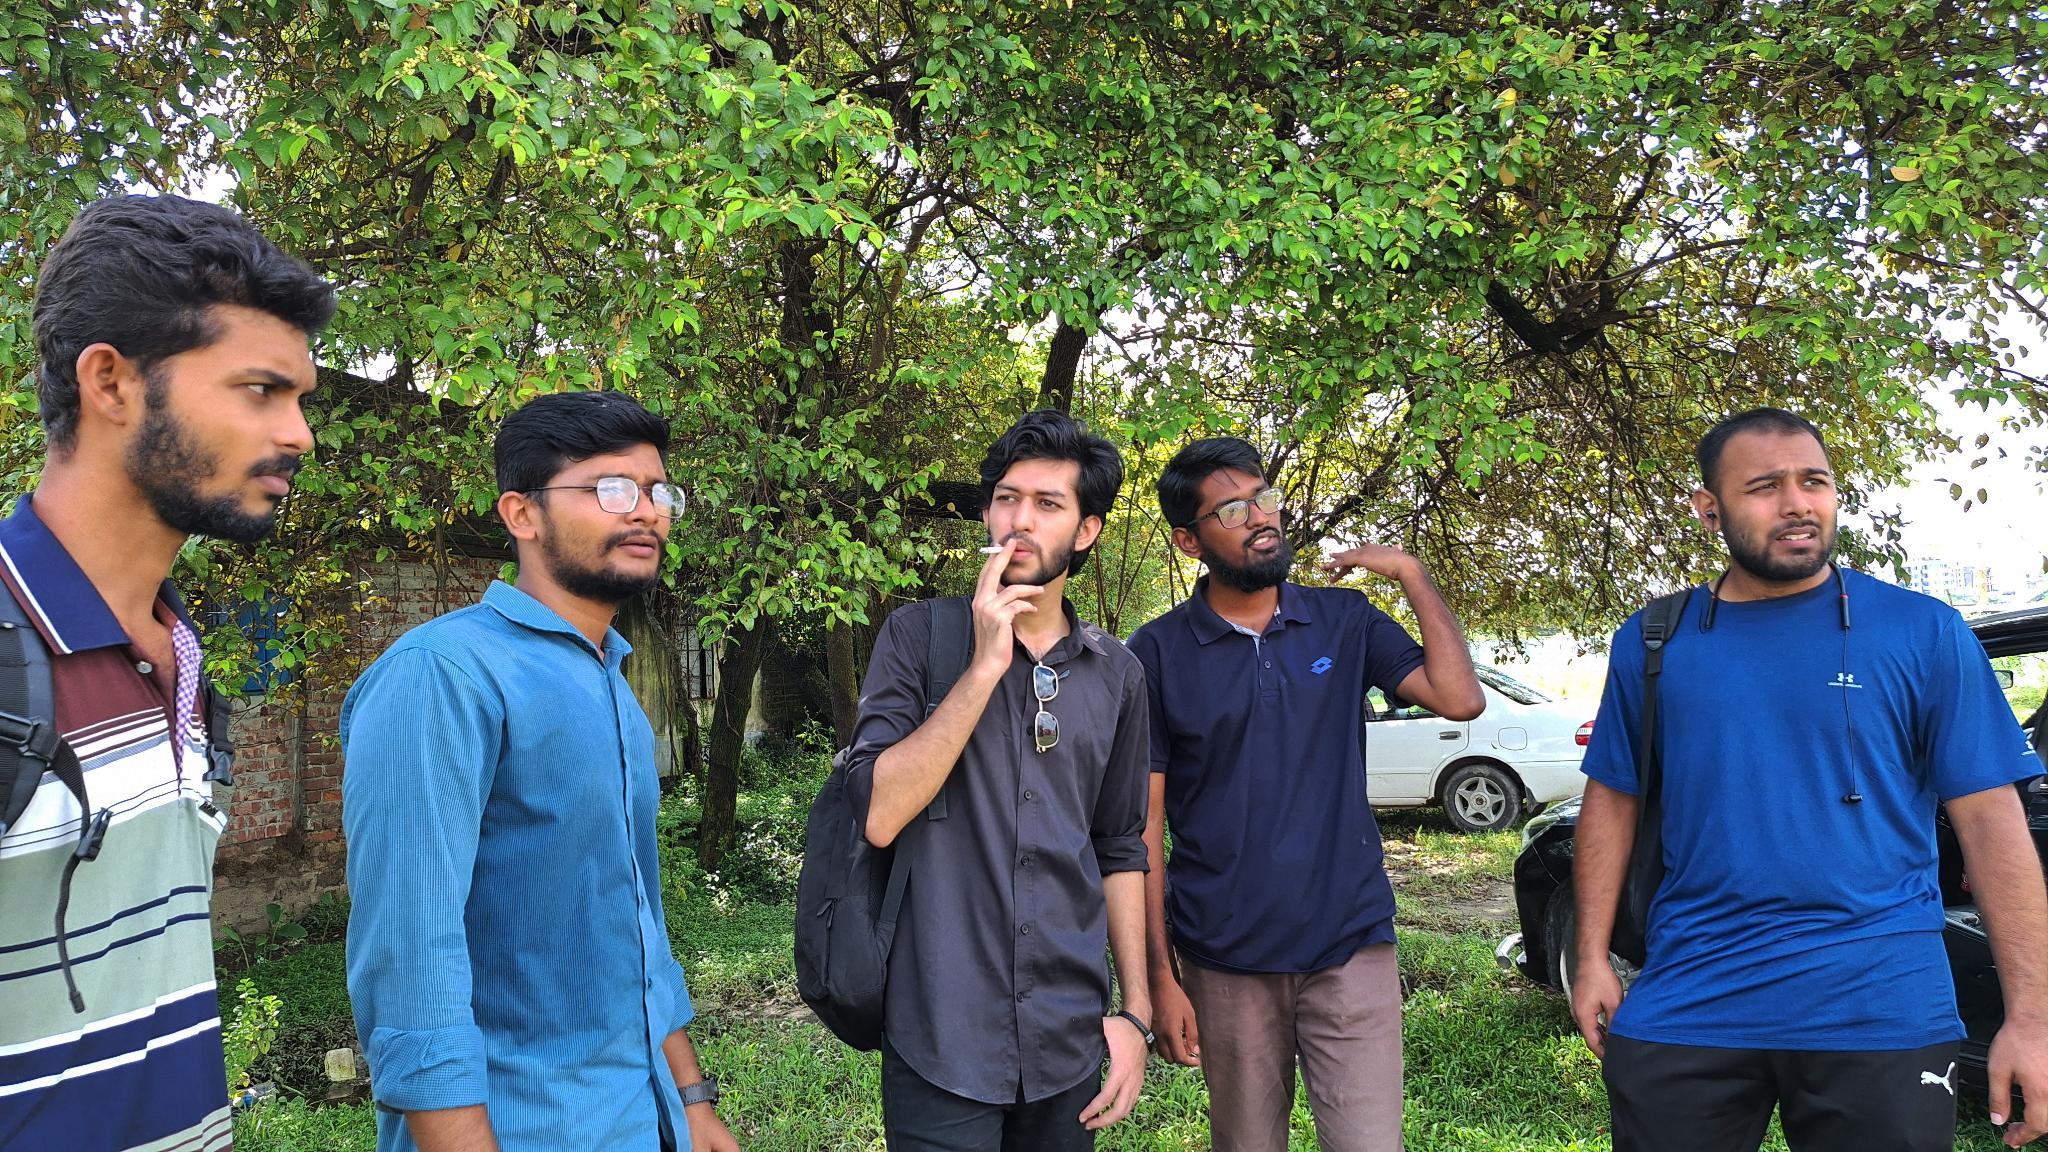cigarette: (976, 543, 1009, 557)
nonSmoker: (1568, 404, 2047, 1152), (0, 196, 322, 1152), (342, 388, 744, 1152), (1125, 437, 1487, 1152)
smoker: (793, 414, 1148, 1152)
